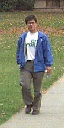person: (20, 15, 44, 112)
